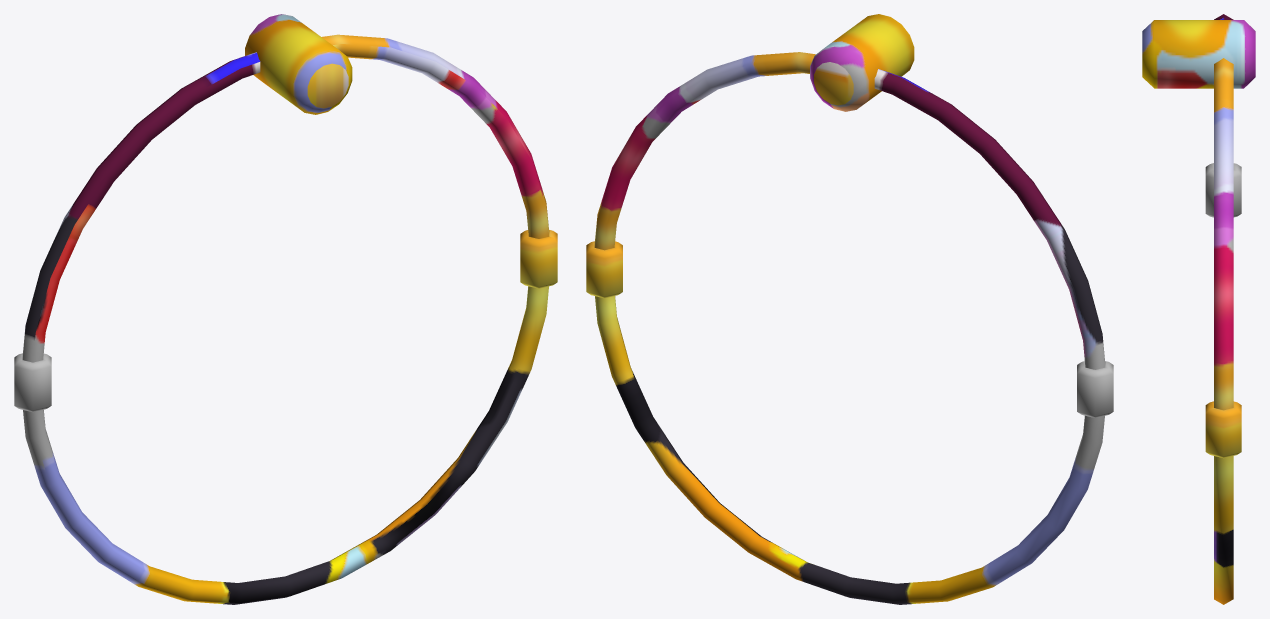
File: dif9.1.fbx
3 views of the same model, side by side, from view 1: azimuth 30°, elevation 25°; view 2: azimuth 150°, elevation 25°; view 3: azimuth 270°, elevation 25° (orthographic). The views are drawn at different scales.
Visible parts, largest first — view 1: Circle.005; view 2: Circle.005; view 3: Circle.005.
Boxes of the visible parts, box(x1,y1,x2,y2) form: Circle.005: box(14, 14, 557, 604); Circle.005: box(586, 14, 1113, 604); Circle.005: box(1142, 14, 1255, 604).
Bounding box in the file's own units: 1078 × 1089 × 202.
